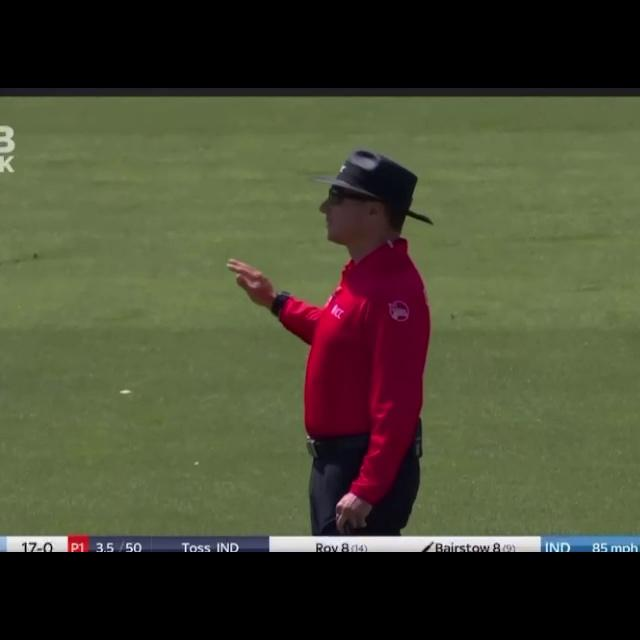umpire: (218, 132, 465, 541)
